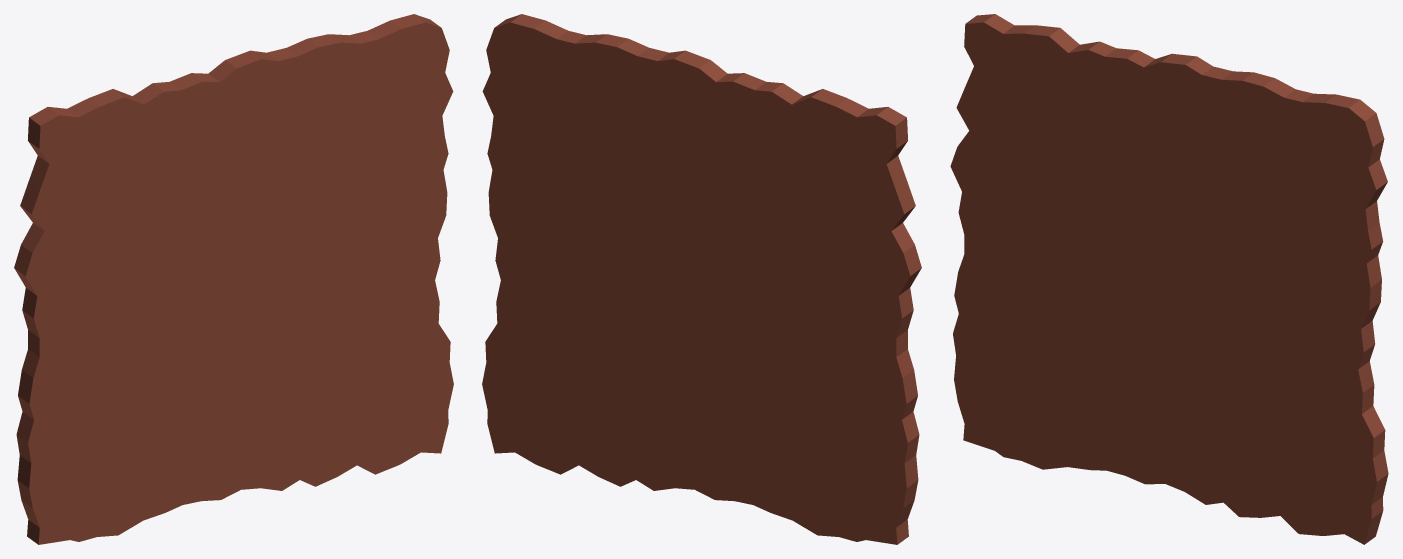
File: Tile15.glb
3 views of the same model, side by side, from view 1: azimuth 30°, elevation 25°; view 2: azimuth 150°, elevation 25°; view 3: azimuth 330°, elevation 25° (orthographic).
Parts seen in each view (by area): view 1: 15; view 2: 15; view 3: 15.
Part boxes in pixels (box(x1,y1,x2,y2)): 15: box(14, 14, 453, 544); 15: box(482, 14, 921, 544); 15: box(950, 14, 1388, 544).
Size of the model in its own units: 2.13 by 2.11 by 0.1.
1 material, 1 textured.
